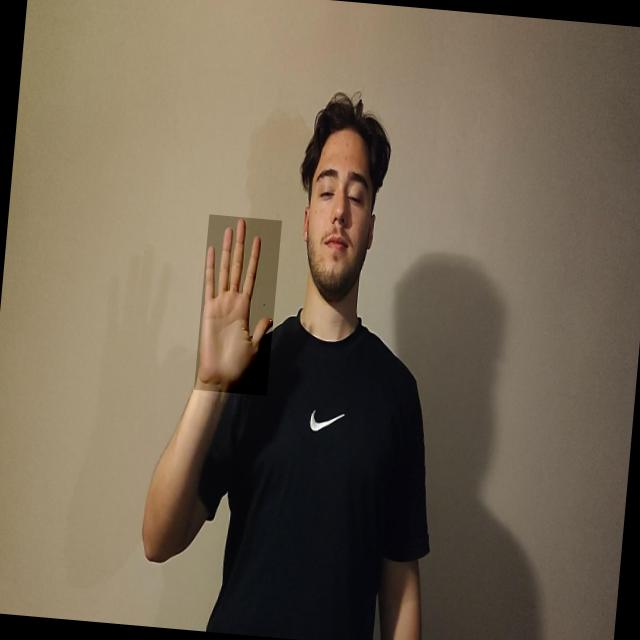hello: (194, 214, 282, 396)
